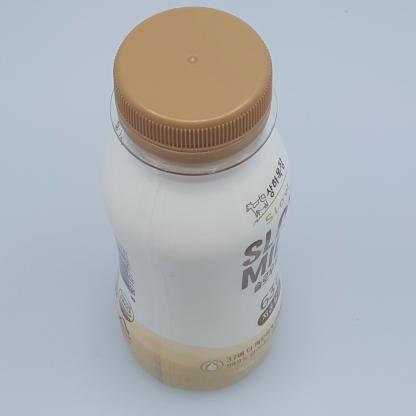----------180ML: (101, 7, 292, 391)
